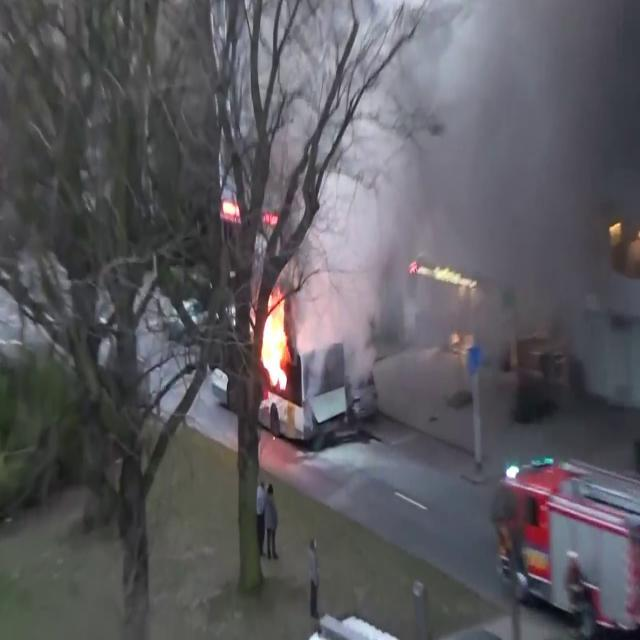Fire: (257, 290, 293, 394)
Smoke: (300, 0, 640, 383)
